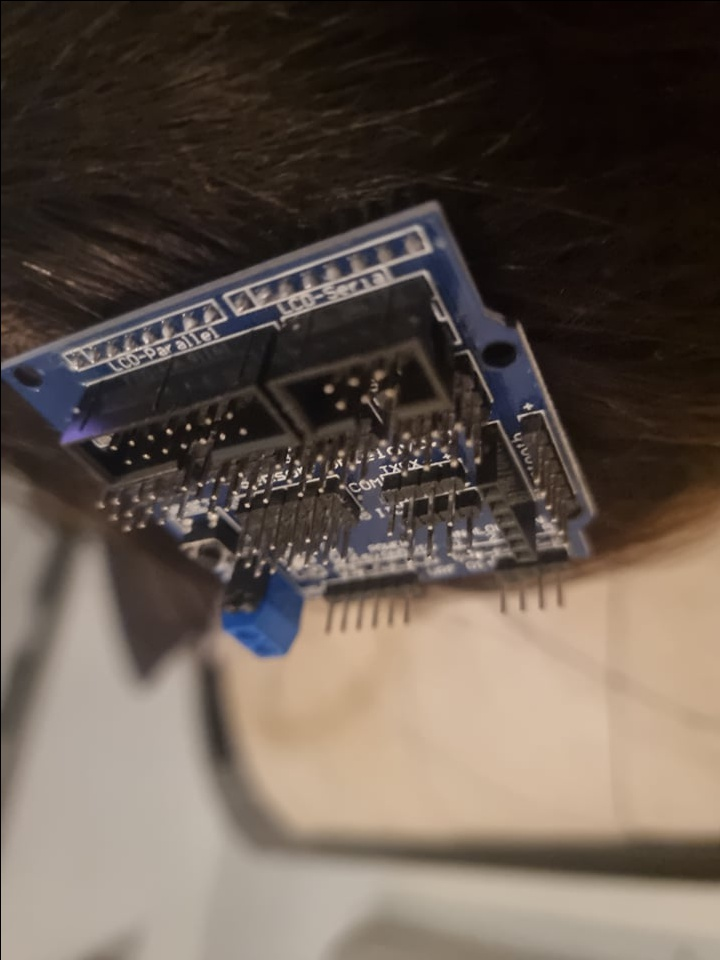5V EXPANSION: (0, 197, 600, 657)
